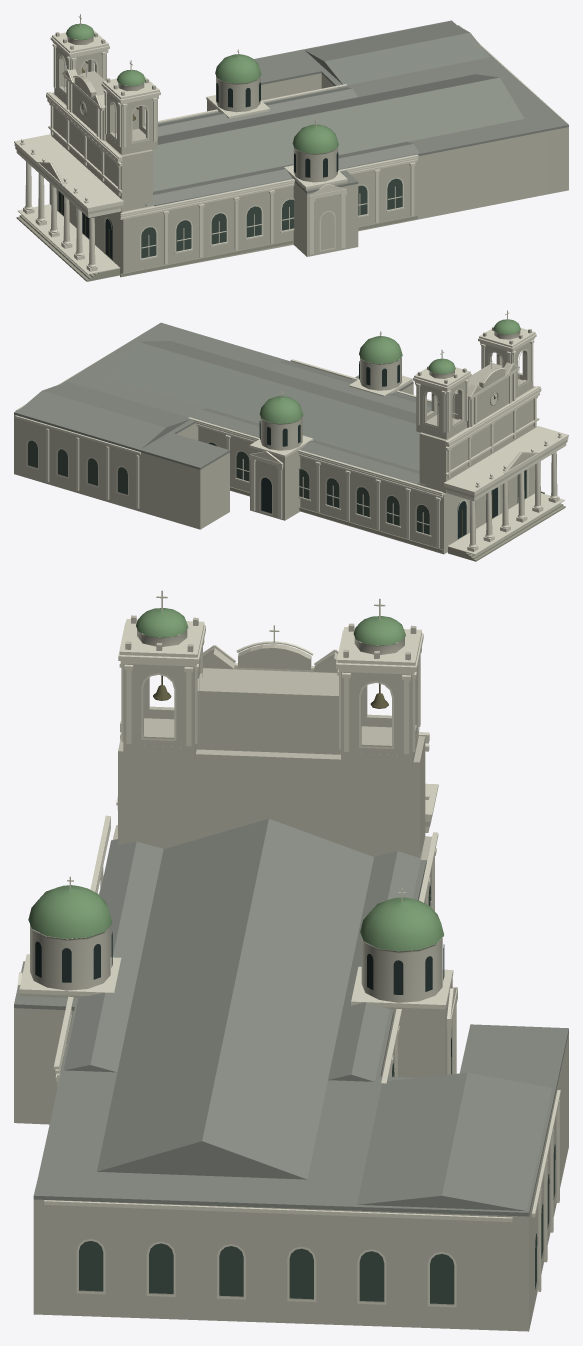
Rendered from catedral-metropolitana-san-jose-far.glb.
3 renders of one model, top to bottom at view 1: azimuth 30°, elevation 25°; view 2: azimuth 150°, elevation 25°; view 3: azimuth 270°, elevation 25°, orthographic. The views are drawn at different scales.
Parts seen in each view (by area): view 1: catedral-metropolitana-san-jose-0-roof, catedral-metropolitana-san-jose-0-stone, catedral-metropolitana-san-jose-0-trim, catedral-metropolitana-san-jose-0-copper, catedral-metropolitana-san-jose-0-glow, catedral-metropolitana-san-jose-0-shade, catedral-metropolitana-san-jose-0-glass; view 2: catedral-metropolitana-san-jose-0-stone, catedral-metropolitana-san-jose-0-roof, catedral-metropolitana-san-jose-0-trim, catedral-metropolitana-san-jose-0-glow, catedral-metropolitana-san-jose-0-copper, catedral-metropolitana-san-jose-0-shade, catedral-metropolitana-san-jose-0-glass; view 3: catedral-metropolitana-san-jose-0-roof, catedral-metropolitana-san-jose-0-stone, catedral-metropolitana-san-jose-0-trim, catedral-metropolitana-san-jose-0-copper, catedral-metropolitana-san-jose-0-glow, catedral-metropolitana-san-jose-0-glass.
Boxes of the visible parts, box(x1,y1,x2,y2) form: catedral-metropolitana-san-jose-0-roof: box(145, 20, 568, 206); catedral-metropolitana-san-jose-0-stone: box(15, 32, 568, 275); catedral-metropolitana-san-jose-0-trim: box(14, 14, 568, 274); catedral-metropolitana-san-jose-0-copper: box(66, 23, 338, 153); catedral-metropolitana-san-jose-0-glow: box(141, 178, 402, 258); catedral-metropolitana-san-jose-0-shade: box(16, 101, 417, 281); catedral-metropolitana-san-jose-0-glass: box(58, 82, 338, 259); catedral-metropolitana-san-jose-0-stone: box(14, 326, 567, 554); catedral-metropolitana-san-jose-0-roof: box(14, 322, 431, 485); catedral-metropolitana-san-jose-0-trim: box(15, 310, 568, 554); catedral-metropolitana-san-jose-0-glow: box(28, 440, 429, 534); catedral-metropolitana-san-jose-0-copper: box(259, 319, 520, 423); catedral-metropolitana-san-jose-0-shade: box(230, 392, 565, 561); catedral-metropolitana-san-jose-0-glass: box(259, 361, 526, 539); catedral-metropolitana-san-jose-0-roof: box(14, 818, 568, 1216); catedral-metropolitana-san-jose-0-stone: box(14, 615, 568, 1331); catedral-metropolitana-san-jose-0-trim: box(17, 590, 560, 1307); catedral-metropolitana-san-jose-0-copper: box(28, 608, 443, 951); catedral-metropolitana-san-jose-0-glow: box(79, 885, 555, 1304); catedral-metropolitana-san-jose-0-glass: box(35, 932, 451, 1074).
Size of the model in its own units: 85.43 by 34.5 by 47.25.
